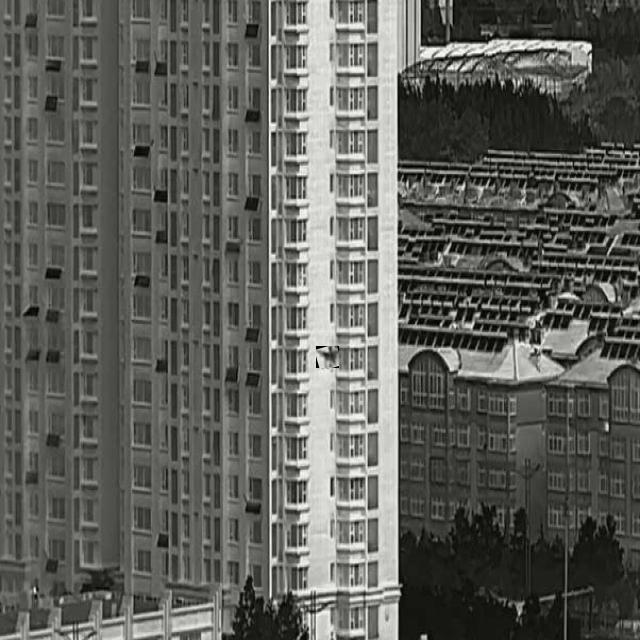drone: (316, 346, 338, 368)
